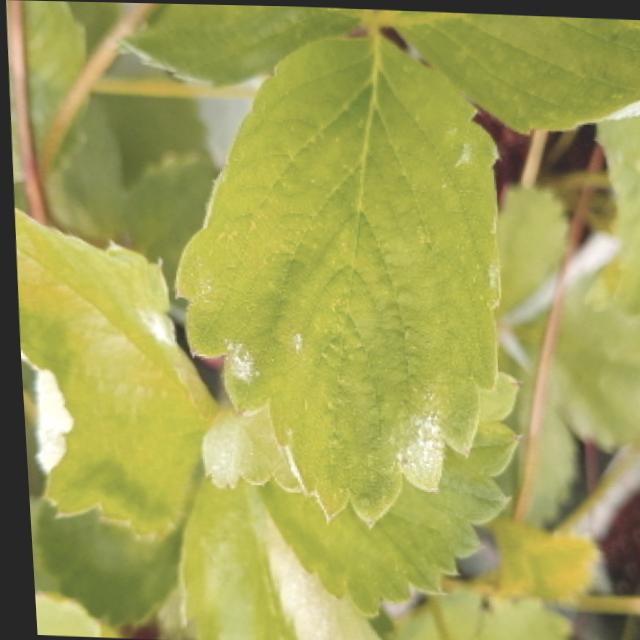Powdery Mildew Leaf: (171, 30, 499, 527), (190, 368, 519, 622), (11, 204, 214, 541), (169, 476, 376, 640), (380, 8, 640, 134)
